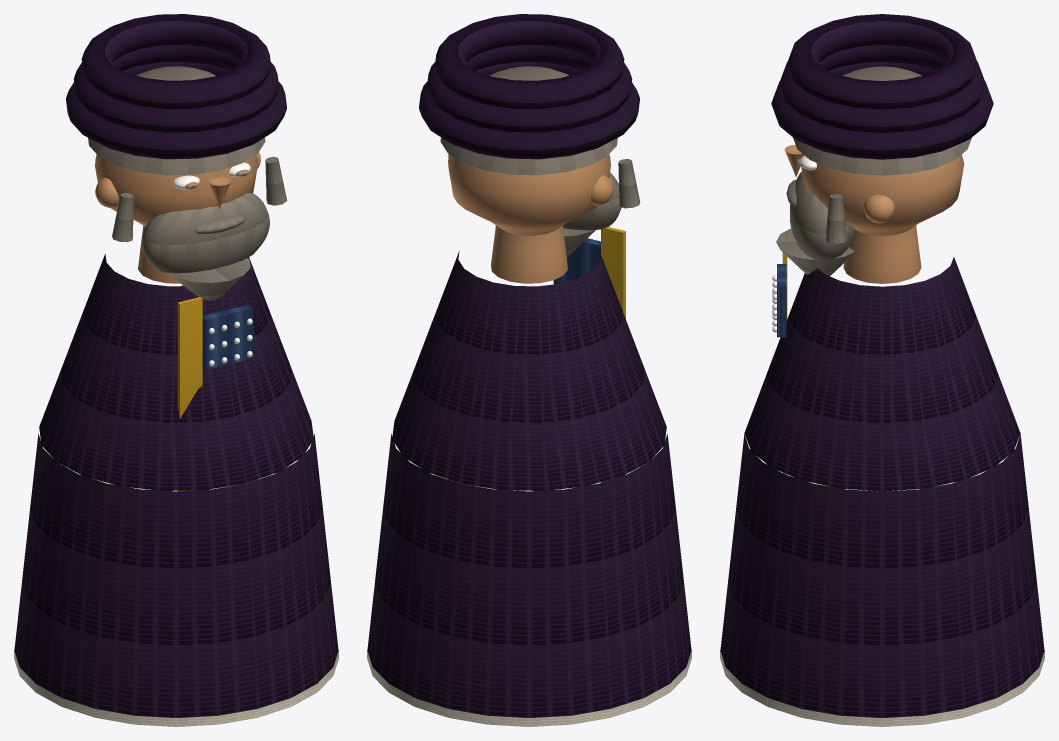
Rendered from caiaphas.glb.
3 renders of one model, left to right at view 1: azimuth 30°, elevation 25°; view 2: azimuth 150°, elevation 25°; view 3: azimuth 270°, elevation 25°, orthographic.
Visible parts, largest first — view 1: Character_caiaphas, head; view 2: Character_caiaphas, head; view 3: Character_caiaphas, head.
Boxes of the visible parts, left/top/right/bottom form: Character_caiaphas: left=14, top=14, right=338, bottom=726; head: left=95, top=154, right=257, bottom=226; Character_caiaphas: left=367, top=14, right=691, bottom=726; head: left=448, top=154, right=610, bottom=235; Character_caiaphas: left=720, top=14, right=1044, bottom=726; head: left=801, top=154, right=964, bottom=235.
Size of the model in its own units: 0.8706 by 1.8 by 0.8706.
Materials: 12 (7 with a texture image).
